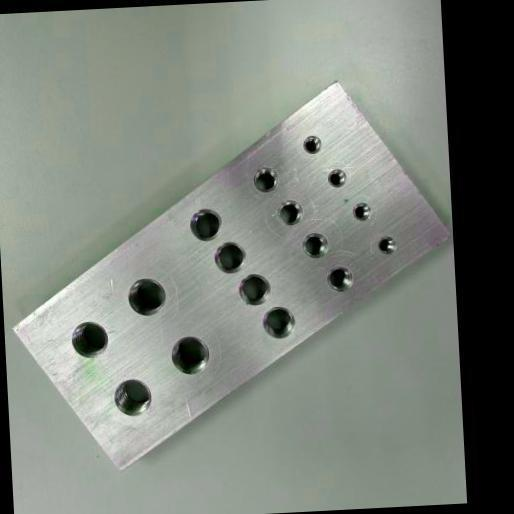hole: (168, 334, 211, 376), (125, 276, 167, 318), (112, 377, 153, 418), (69, 319, 110, 360), (187, 206, 223, 242), (260, 305, 296, 340), (212, 240, 247, 276), (237, 272, 272, 307), (324, 264, 354, 292), (300, 232, 329, 260), (276, 197, 304, 226), (252, 165, 280, 193), (326, 167, 348, 188), (301, 134, 322, 156), (352, 201, 373, 222), (376, 234, 397, 254)
